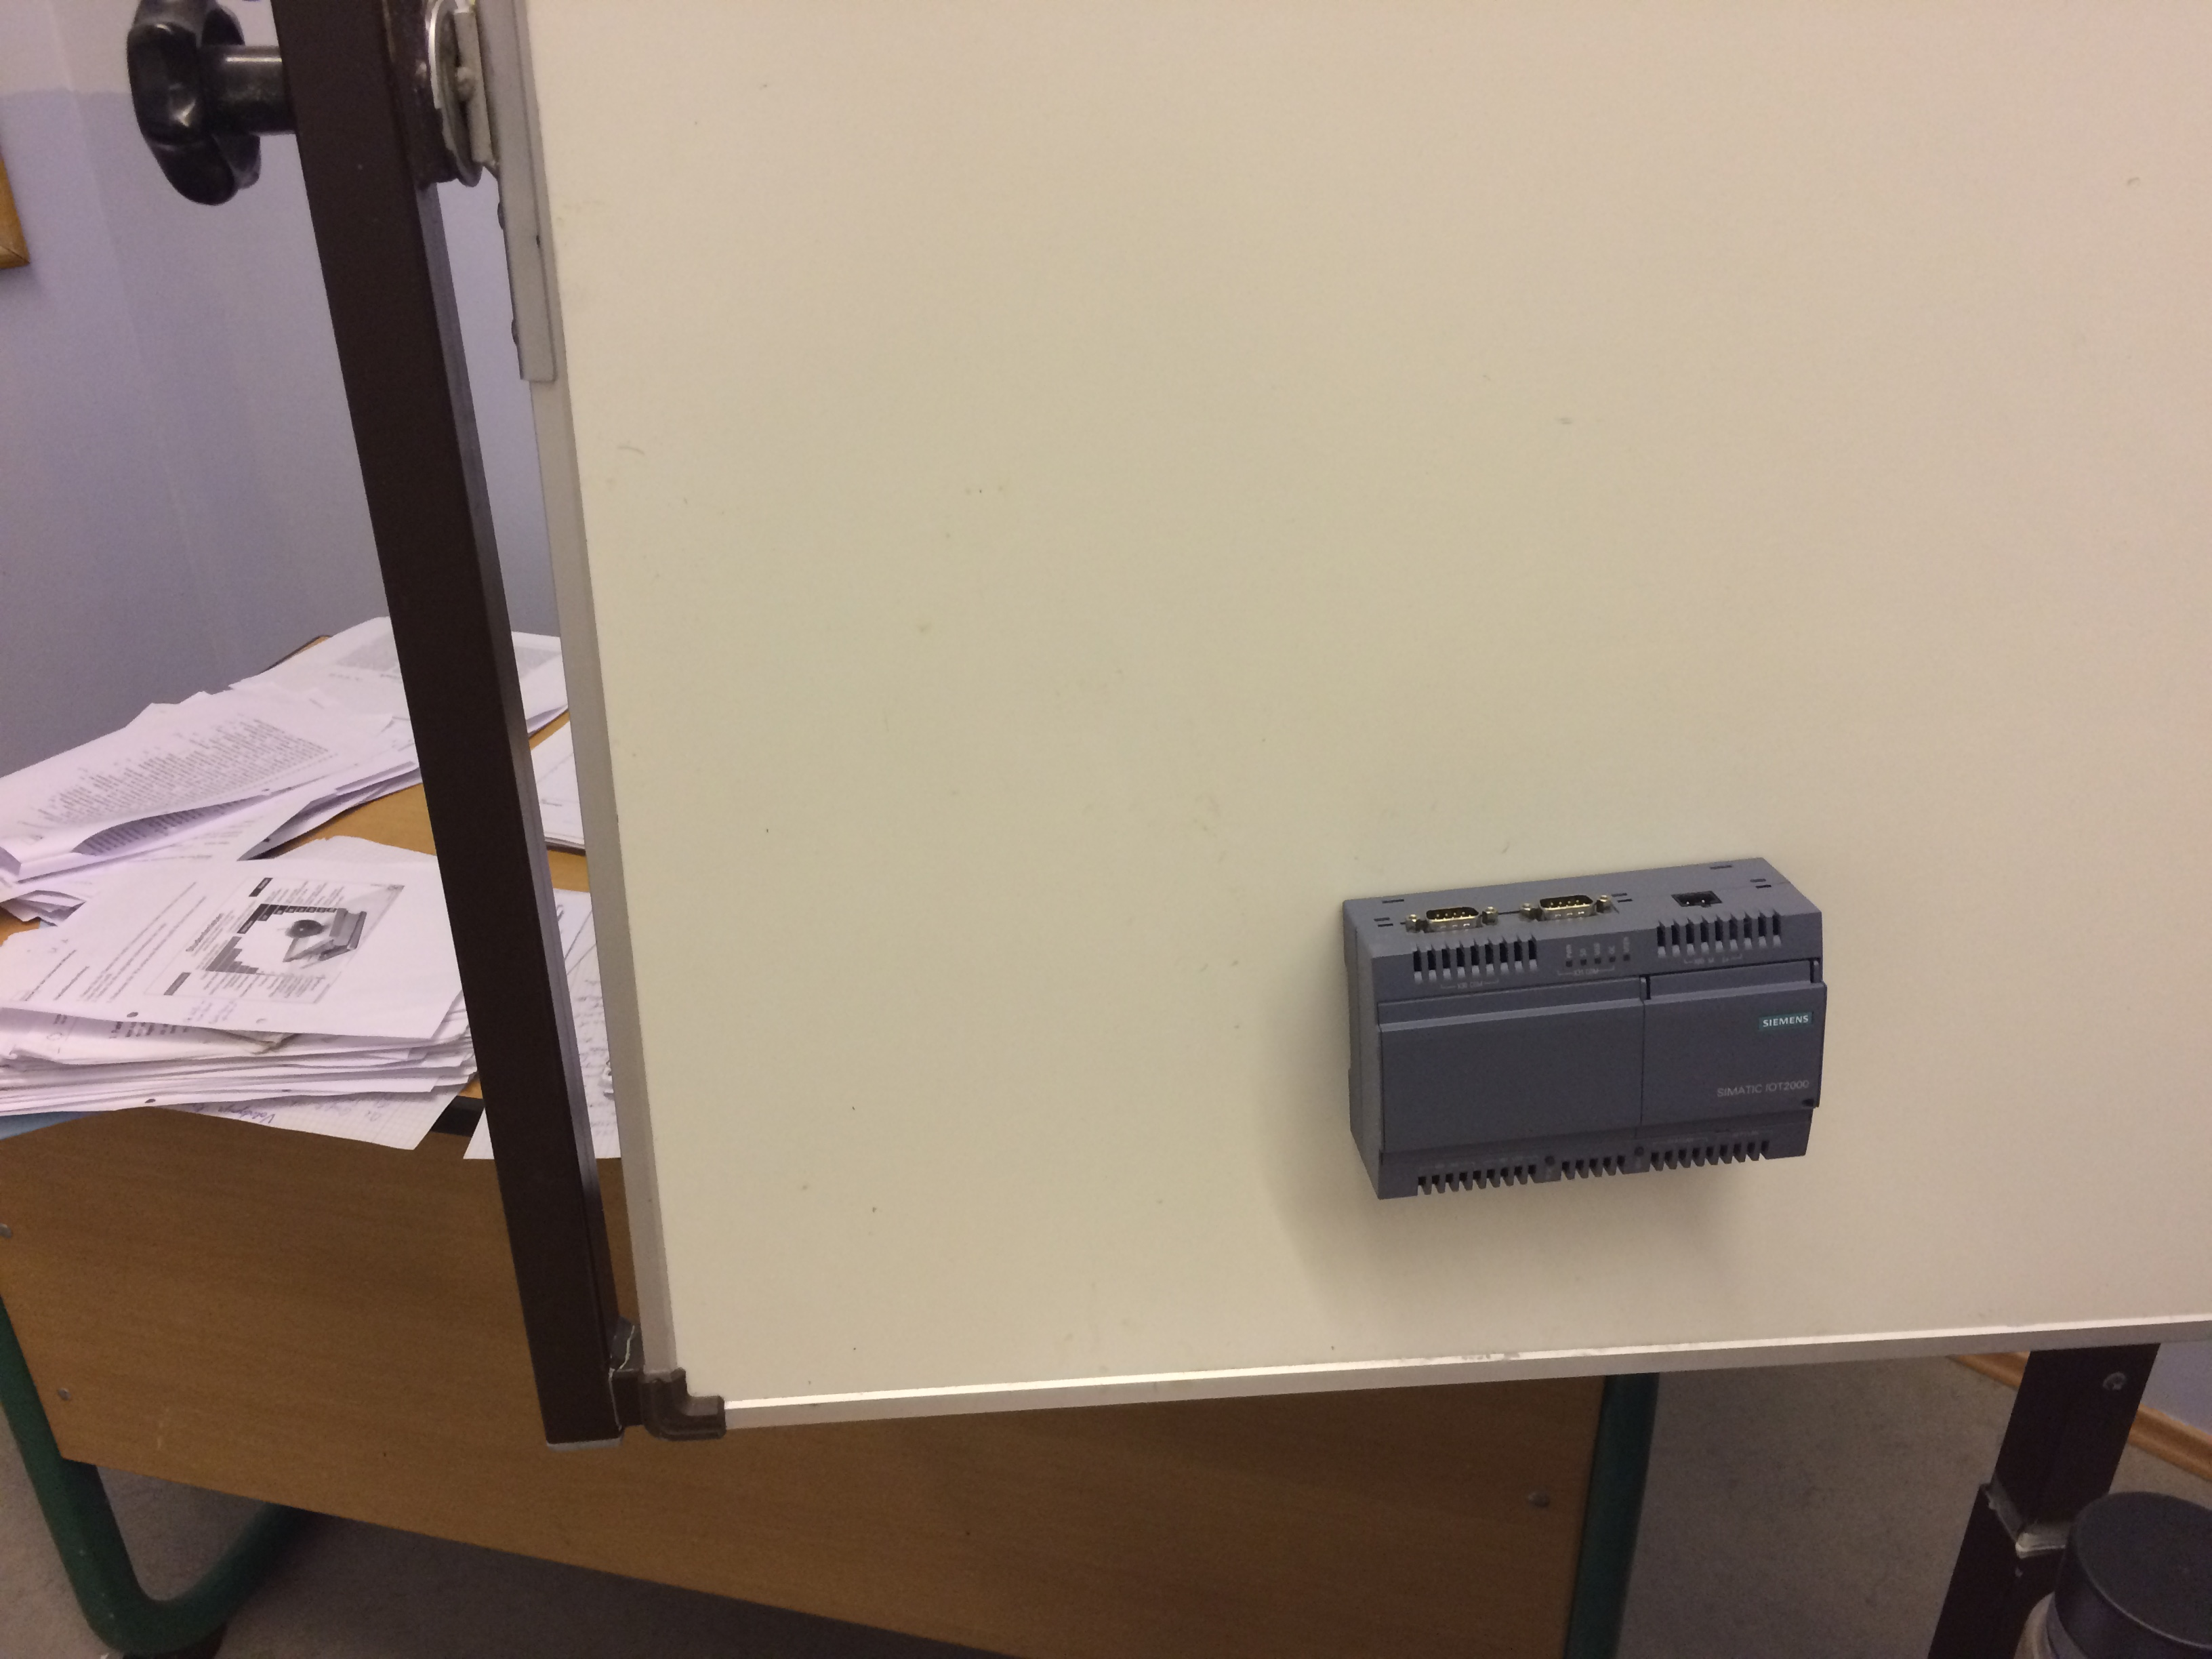iot2000: (1338, 854, 1832, 1204)
